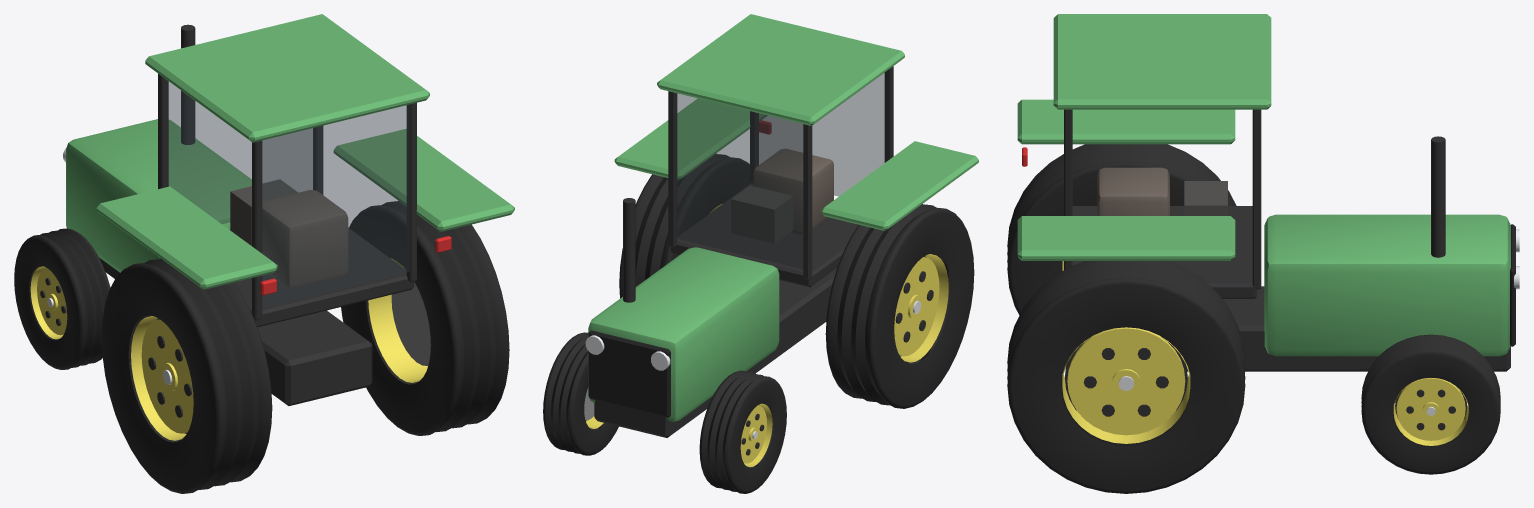
The model's file is traffic_tractor.glb.
3 views of the same model, side by side, from view 1: azimuth 30°, elevation 25°; view 2: azimuth 150°, elevation 25°; view 3: azimuth 270°, elevation 25° (orthographic). The views are drawn at different scales.
Parts seen in each view (by area): view 1: Body, Glass, Wheel_RL, Wheel_RR, Wheel_FL, Interior; view 2: Body, Glass, Wheel_RL, Wheel_FL, Wheel_RR, Wheel_FR, Interior, Lights_Head; view 3: Body, Wheel_RR, Wheel_FR, Wheel_RL, Interior.
Boxes of the visible parts, <box> form: Body: <box>66,14,514,405</box>; Glass: <box>168,82,409,307</box>; Wheel_RL: <box>101,258,272,493</box>; Wheel_RR: <box>341,201,509,435</box>; Wheel_FL: <box>14,228,110,369</box>; Interior: <box>230,179,297,245</box>; Body: <box>588,14,978,437</box>; Glass: <box>675,73,884,268</box>; Wheel_RL: <box>825,204,974,408</box>; Wheel_FL: <box>699,370,786,493</box>; Wheel_RR: <box>619,154,749,298</box>; Wheel_FR: <box>543,332,618,455</box>; Interior: <box>731,185,793,243</box>; Lights_Head: <box>585,335,670,370</box>; Body: <box>1017,14,1515,371</box>; Wheel_RR: <box>1007,261,1245,493</box>; Wheel_FR: <box>1361,334,1500,474</box>; Wheel_RL: <box>1007,144,1236,315</box>; Interior: <box>1184,181,1227,215</box>.
Bounding box in the file's own units: 2.52 × 2.79 × 3.53.
